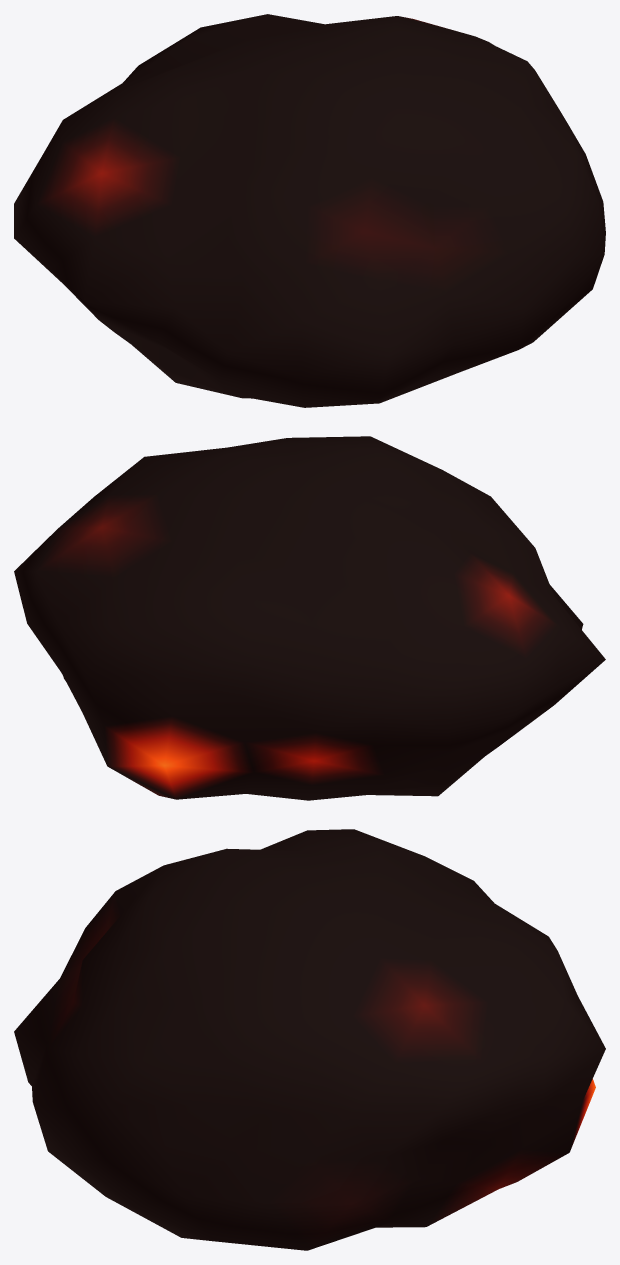
Rendered from bomb_cooling.glb.
3 views of the same model, one above another, from view 1: azimuth 30°, elevation 25°; view 2: azimuth 150°, elevation 25°; view 3: azimuth 270°, elevation 25° (orthographic). The views are drawn at different scales.
Bounding box in the file's own units: 2.45 × 1.47 × 2.33.
